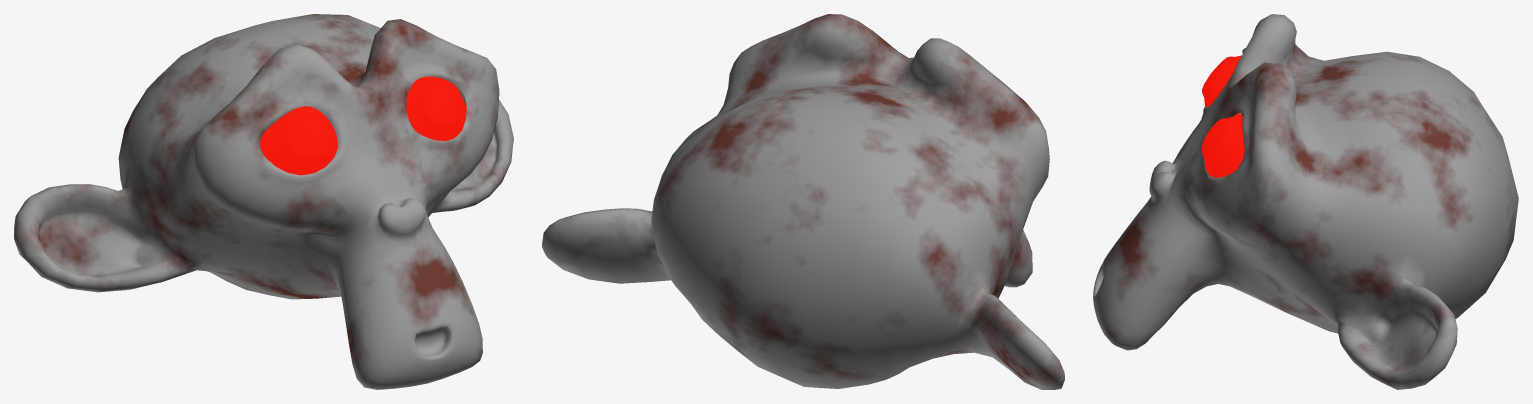
File: MonitoORM.fbx
3 views of the same model, side by side, from view 1: azimuth 30°, elevation 25°; view 2: azimuth 150°, elevation 25°; view 3: azimuth 270°, elevation 25° (orthographic). The views are drawn at different scales.
Visible parts, largest first — view 1: Suzanne; view 2: Suzanne; view 3: Suzanne.
Boxes of the visible parts, <box> form: Suzanne: <box>14,14,513,389</box>; Suzanne: <box>542,14,1064,389</box>; Suzanne: <box>1093,14,1518,389</box>.
Bounding box in the file's own units: 265 × 150 × 200.
1 material, 1 textured.
